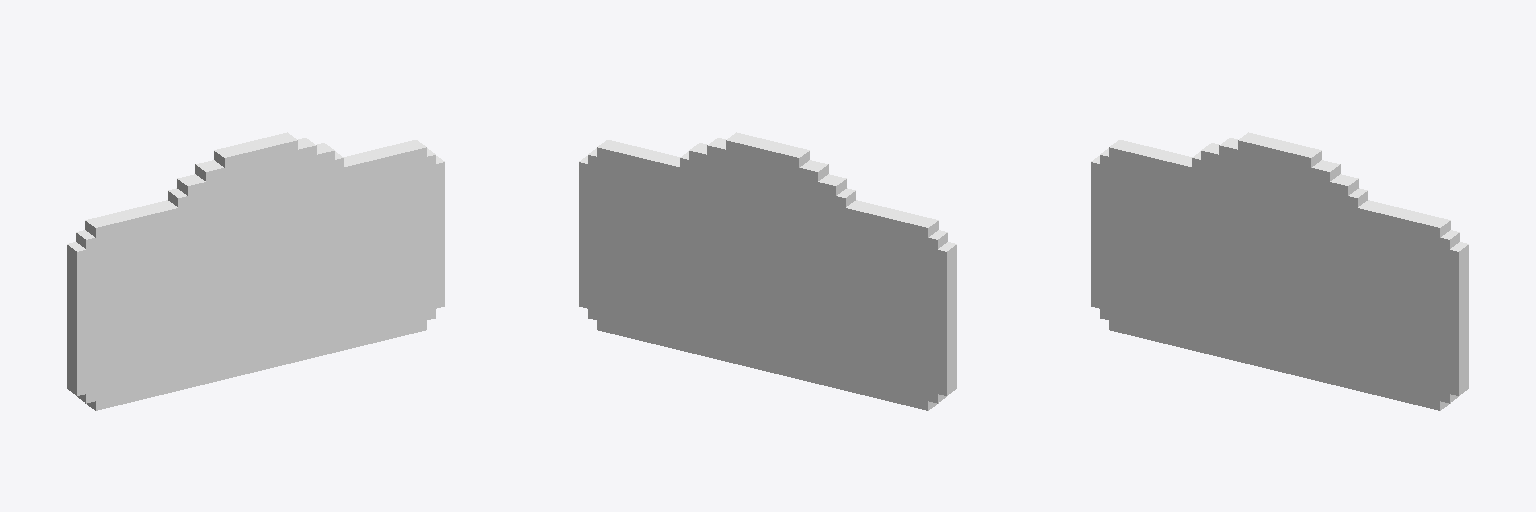
File: menuSign_v1.obj
3 renders of one model, left to right at view 1: azimuth 30°, elevation 25°; view 2: azimuth 150°, elevation 25°; view 3: azimuth 330°, elevation 25°, orthographic.
Parts seen in each view (by area): view 1: menuSign_v1; view 2: menuSign_v1; view 3: menuSign_v1.
Part boxes in pixels (left/top/right/bottom): menuSign_v1: left=67, top=132, right=444, bottom=410; menuSign_v1: left=579, top=132, right=956, bottom=410; menuSign_v1: left=1091, top=132, right=1468, bottom=410.
Size of the model in its own units: 80 by 46 by 4.